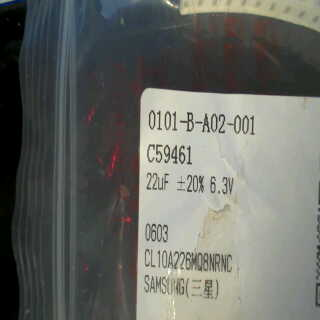22uF: (143, 167, 173, 193)
